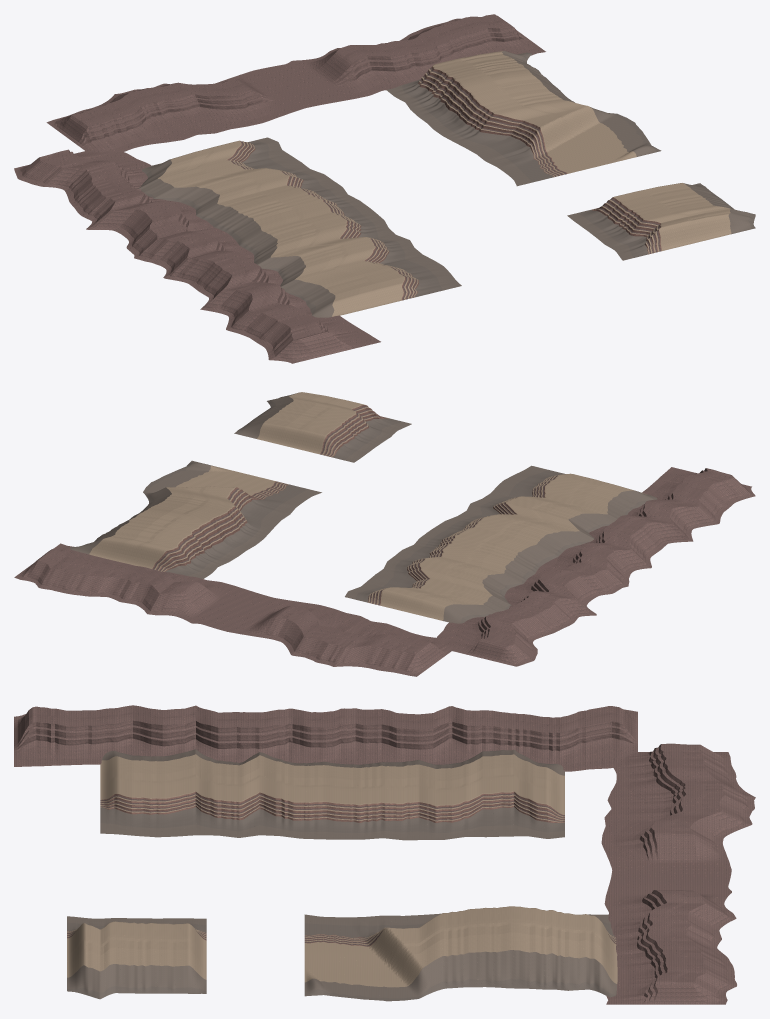
Rendered from SM_Caliche_Mesas.glb.
3 renders of one model, top to bottom at view 1: azimuth 30°, elevation 25°; view 2: azimuth 150°, elevation 25°; view 3: azimuth 270°, elevation 25°, orthographic. The views are drawn at different scales.
Visible parts, largest first — view 1: SM_Caliche_Mesas; view 2: SM_Caliche_Mesas; view 3: SM_Caliche_Mesas.
Boxes of the visible parts, x1,y1,x2,y2 form: SM_Caliche_Mesas: (14, 14, 755, 363); SM_Caliche_Mesas: (14, 392, 755, 676); SM_Caliche_Mesas: (14, 705, 755, 1004).
Bounding box in the file's own units: 5305 × 239 × 5588.
6 materials, 6 textured.
